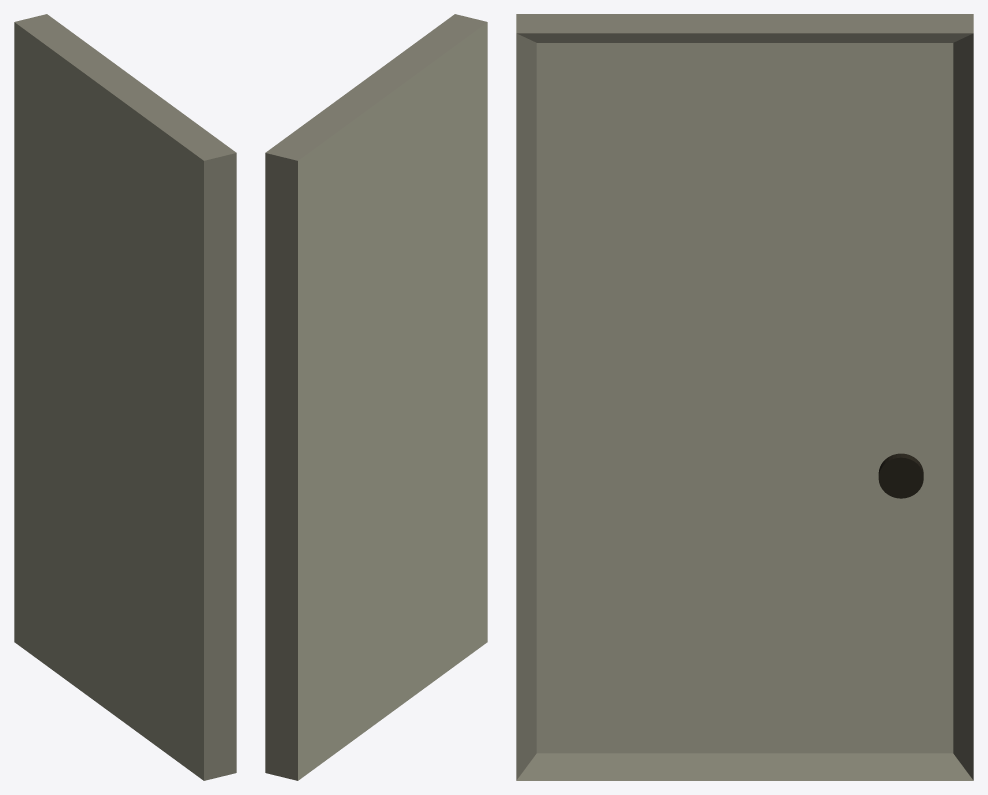
File: Open2DoorCounter(Door).fbx
The picture shows the model from 3 angles, left to right: view 1: azimuth 30°, elevation 25°; view 2: azimuth 150°, elevation 25°; view 3: azimuth 270°, elevation 25°; orthographic projection. The views are drawn at different scales.
Visible parts, largest first — view 1: Cube.001; view 2: Cube.001; view 3: Cube.001.
Part boxes in pixels (x1,y1,x2,y2): Cube.001: (14, 14, 236, 780); Cube.001: (265, 14, 487, 780); Cube.001: (516, 14, 973, 780).
Size of the model in its own units: 246 by 24.49 by 443.
